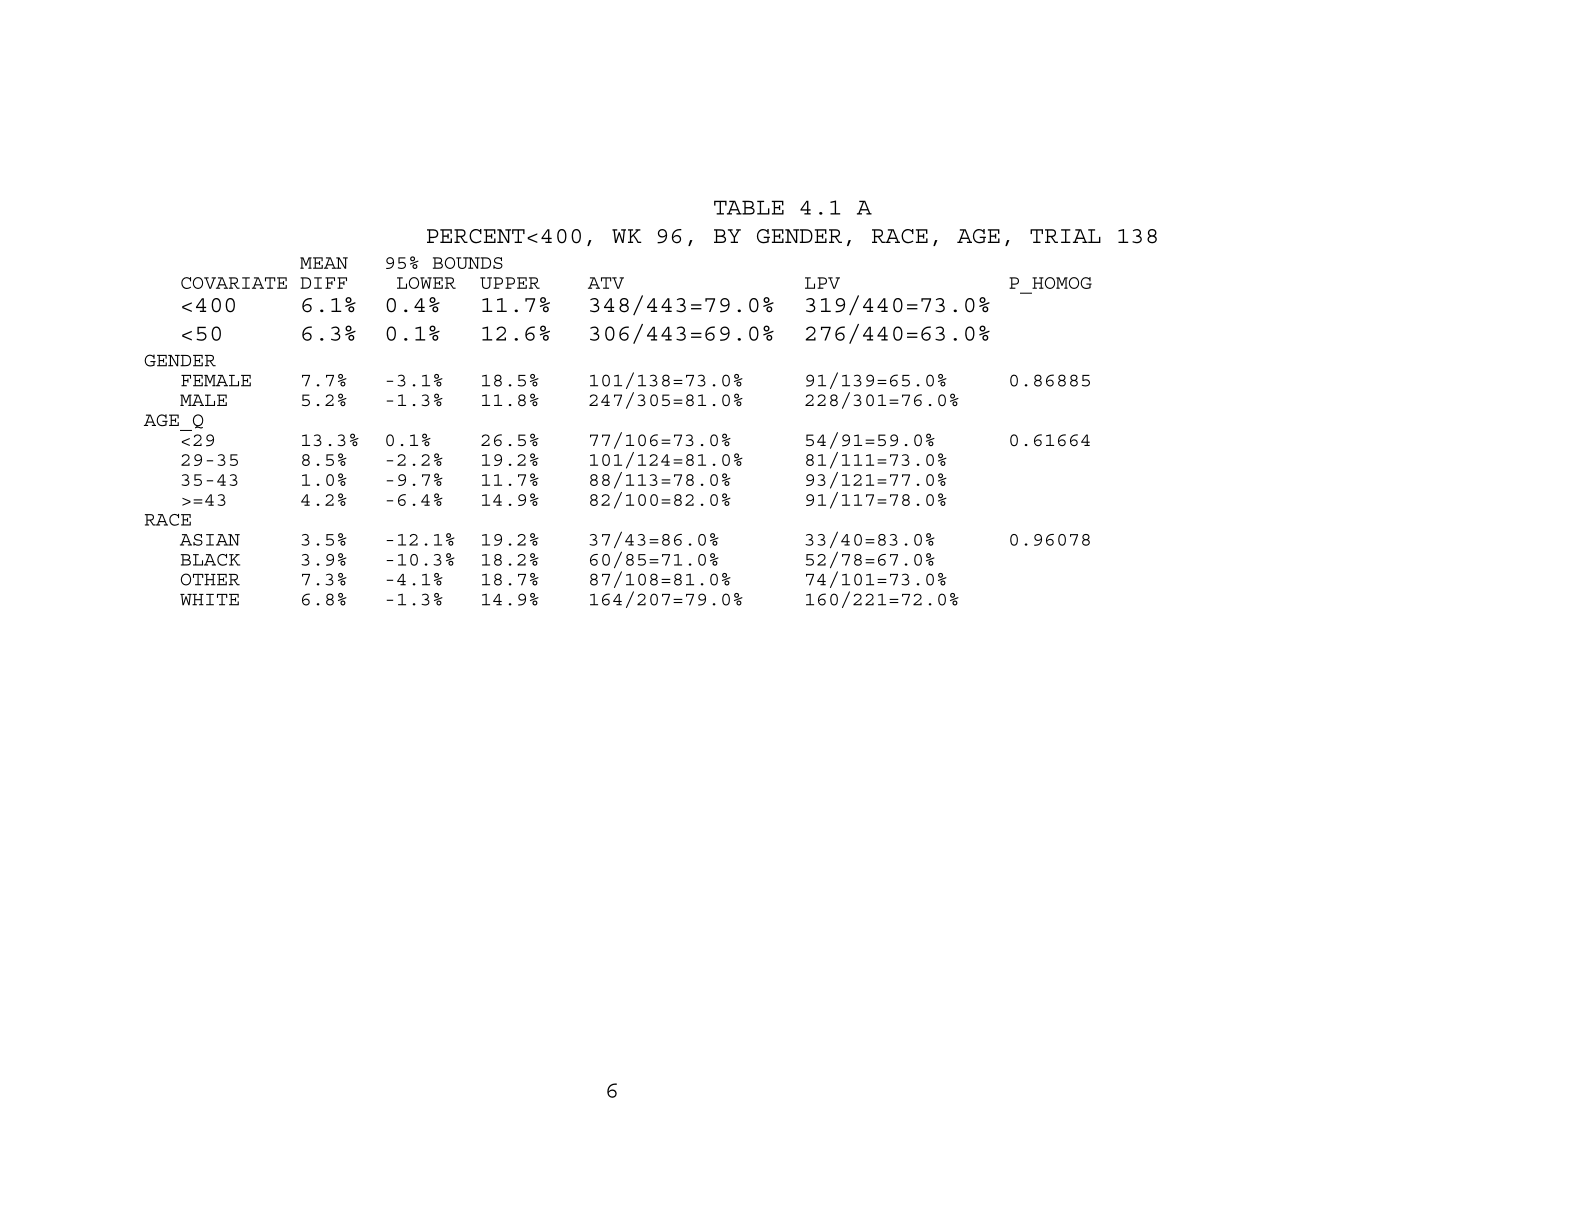nolines: (143, 256, 1093, 606)
